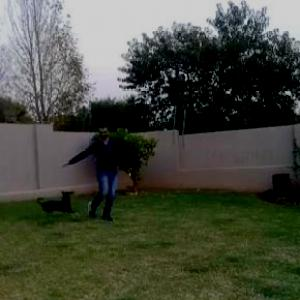land: (63, 123, 139, 213)
